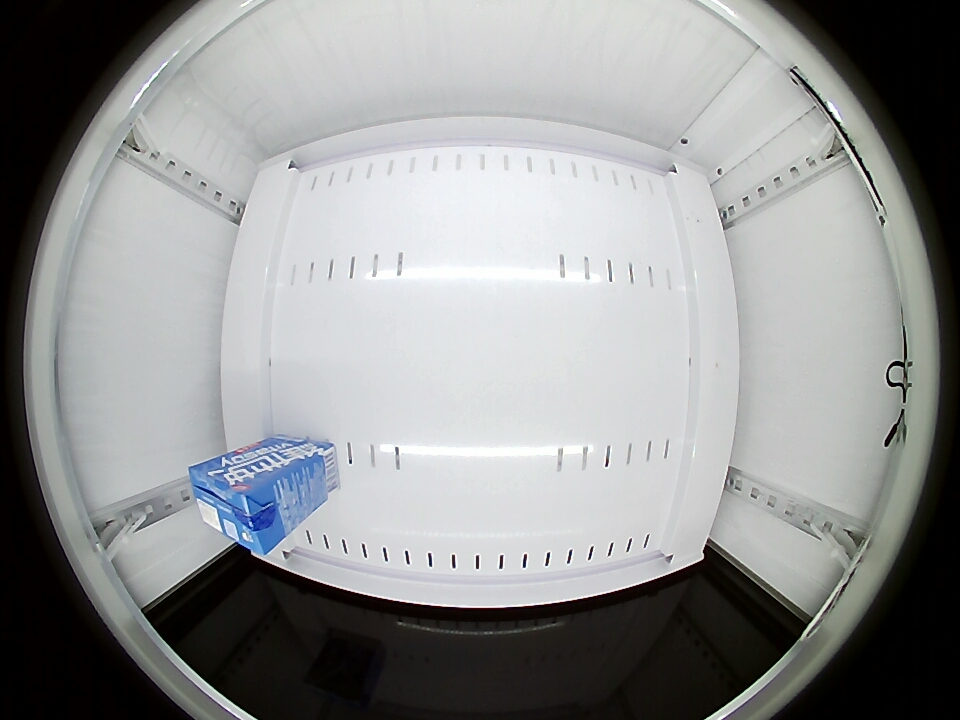weitanai: (188, 457, 291, 556)
